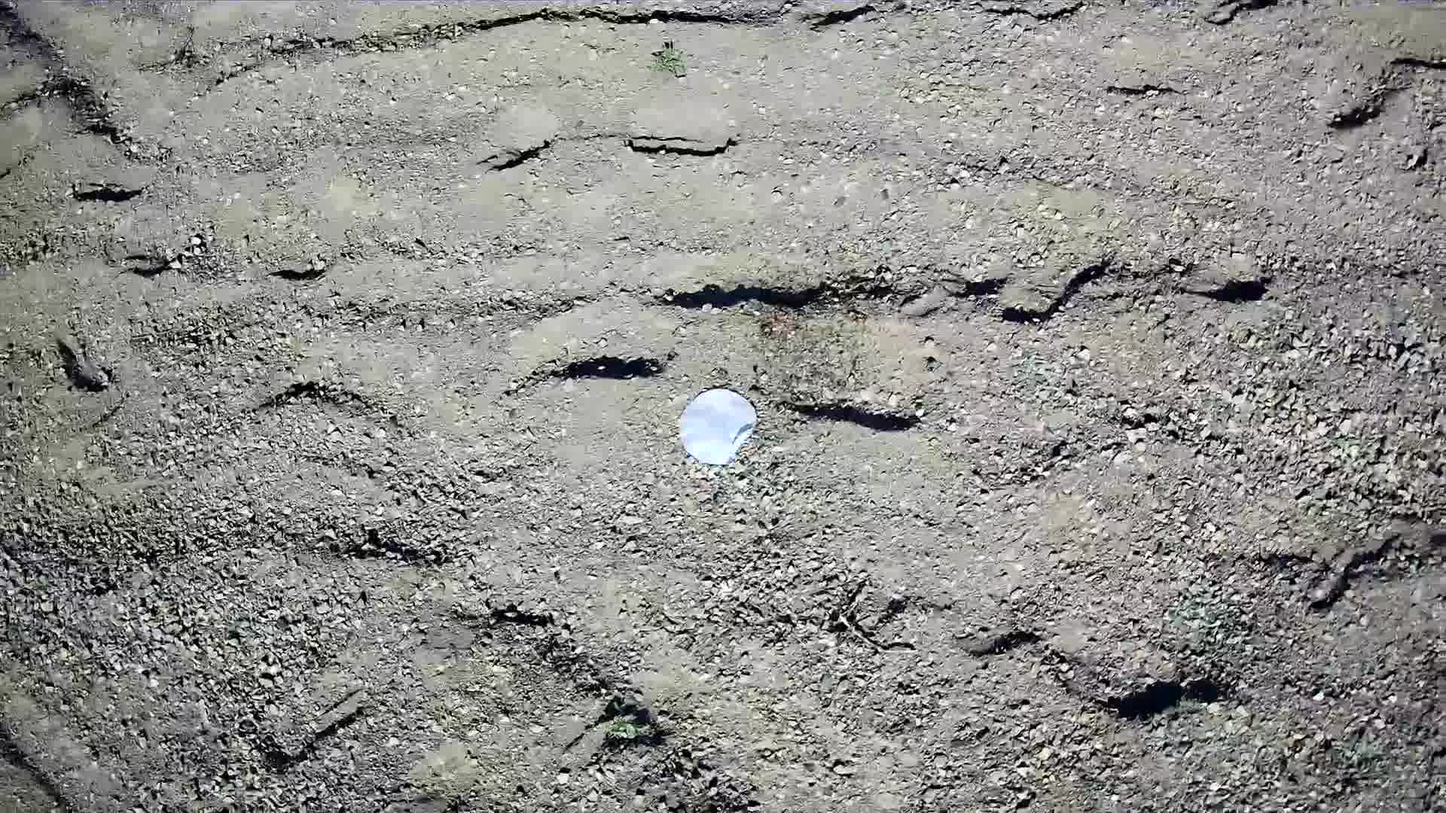Target: (678, 389, 755, 466)
